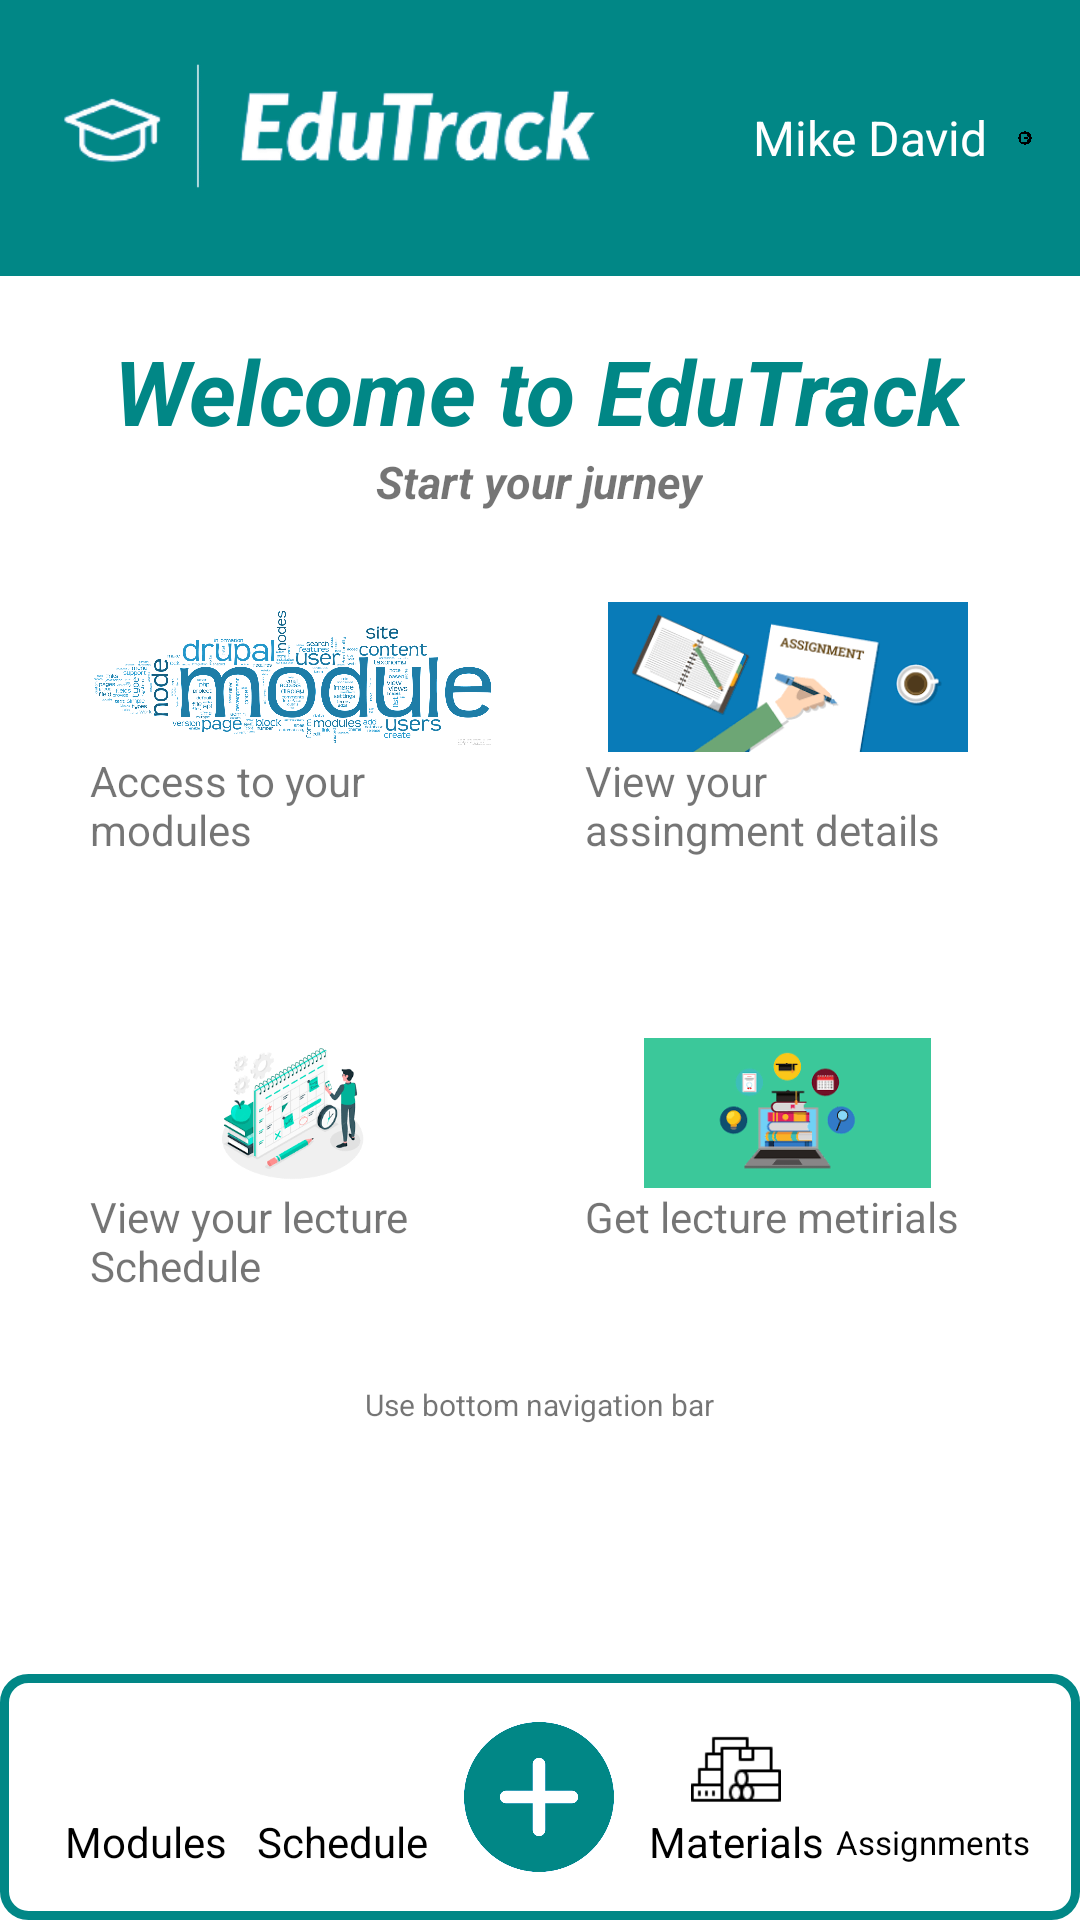

Icons on this 1080w x 1920h Android screen, each with its box as (x1, y1, x2, y2):
adbutton: (464, 1722, 614, 1872)
